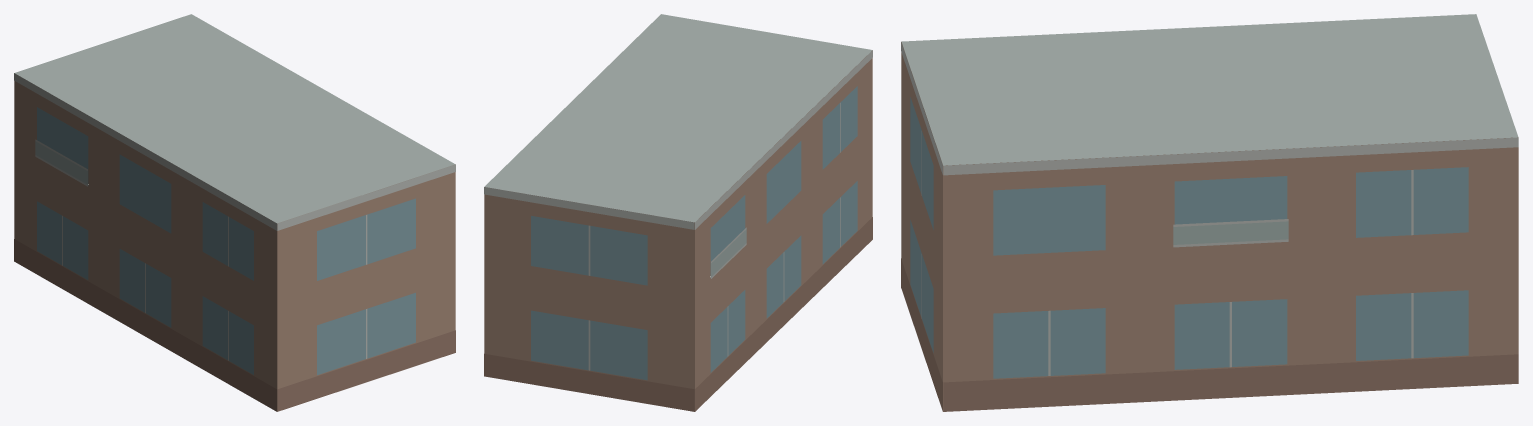
Rendered from survey-upis-32687084.glb.
The picture shows the model from 3 angles, left to right: view 1: azimuth 30°, elevation 25°; view 2: azimuth 150°, elevation 25°; view 3: azimuth 270°, elevation 25°; orthographic projection. The views are drawn at different scales.
Parts seen in each view (by area): view 1: survey-upis-32687084.tmp; view 2: survey-upis-32687084.tmp; view 3: survey-upis-32687084.tmp.
Part boxes in pixels (x1,y1,x2,y2): survey-upis-32687084.tmp: (14,14,455,411); survey-upis-32687084.tmp: (484,14,872,411); survey-upis-32687084.tmp: (901,14,1518,411).
Bounding box in the file's own units: 8.06 × 6.1 × 13.87.
